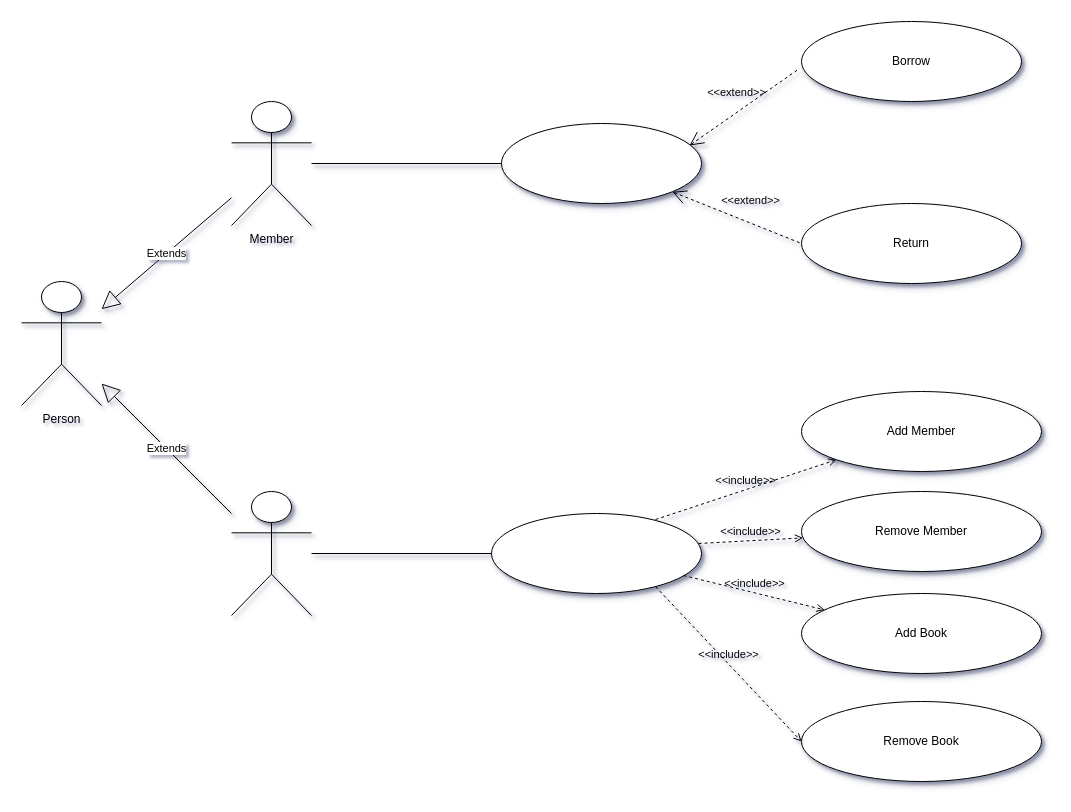
Image size: 1071x812. Some labels were removed from this diagram. The shapes that lost their labels are listed below. From the top down, each one's centre as x and y in pixels, then its label:
point (602, 164): Manage Books
point (272, 554): Librarian
point (597, 554): Manage Library
